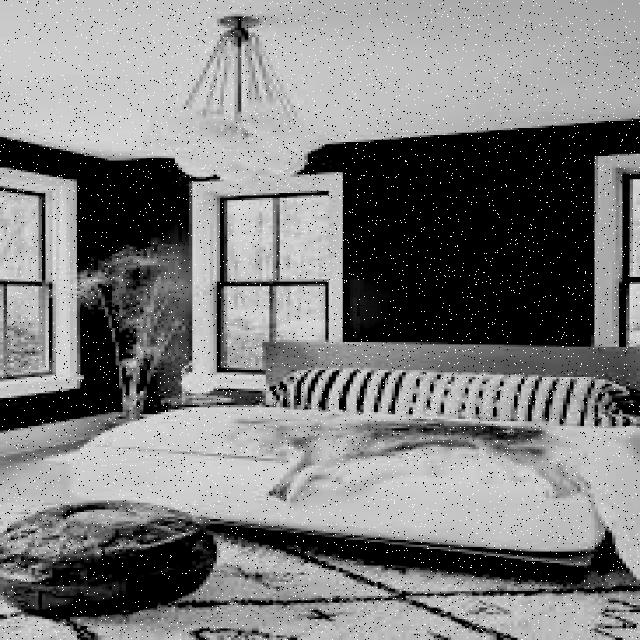bed: (78, 363, 640, 537)
